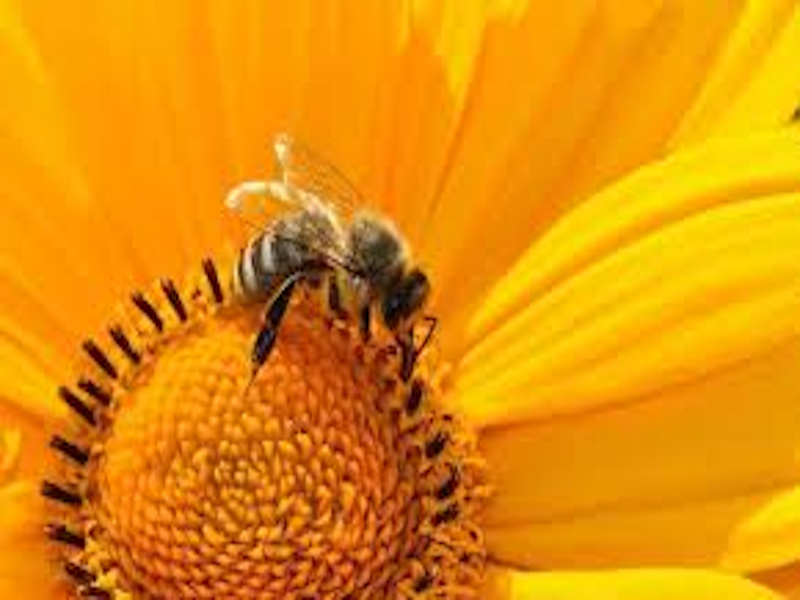abeja: (206, 122, 451, 396)
